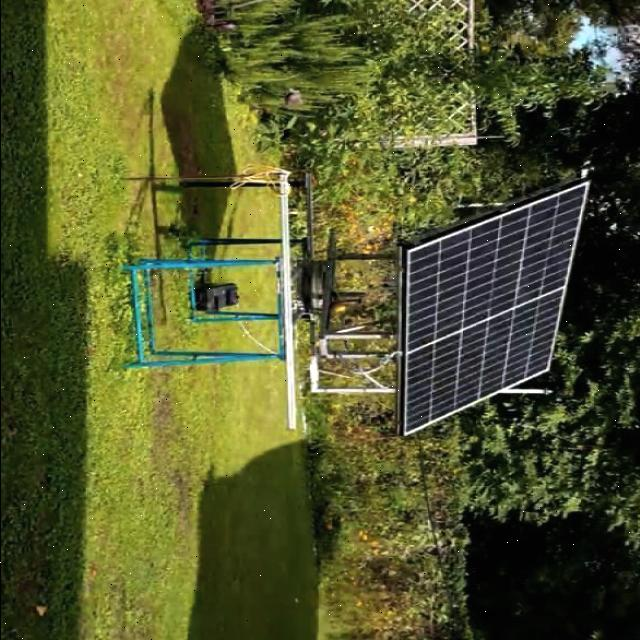Normal Solar Panel: (398, 178, 586, 436)
